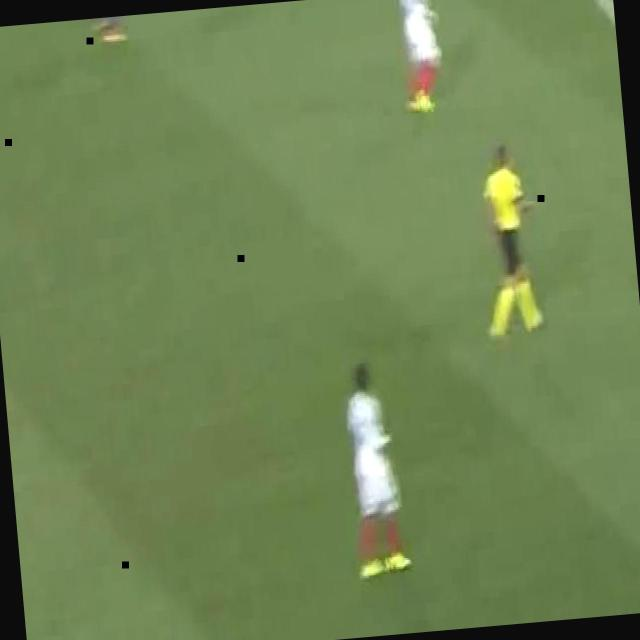player-white: (343, 360, 411, 578), (473, 142, 547, 340), (396, 0, 445, 112), (85, 15, 131, 46)
